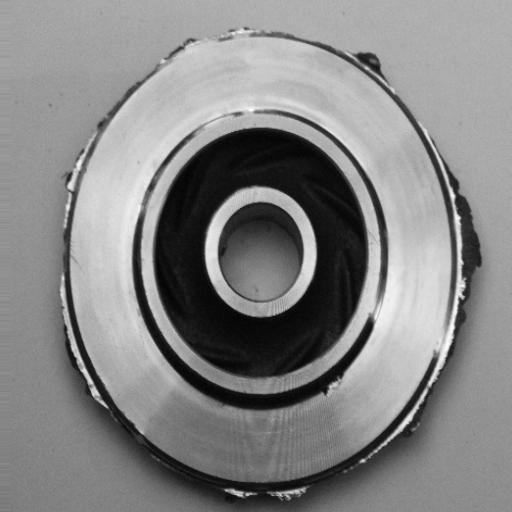casting_with_burr: (54, 21, 483, 507)
crack: (305, 368, 354, 404)
scratch: (184, 91, 272, 140)
